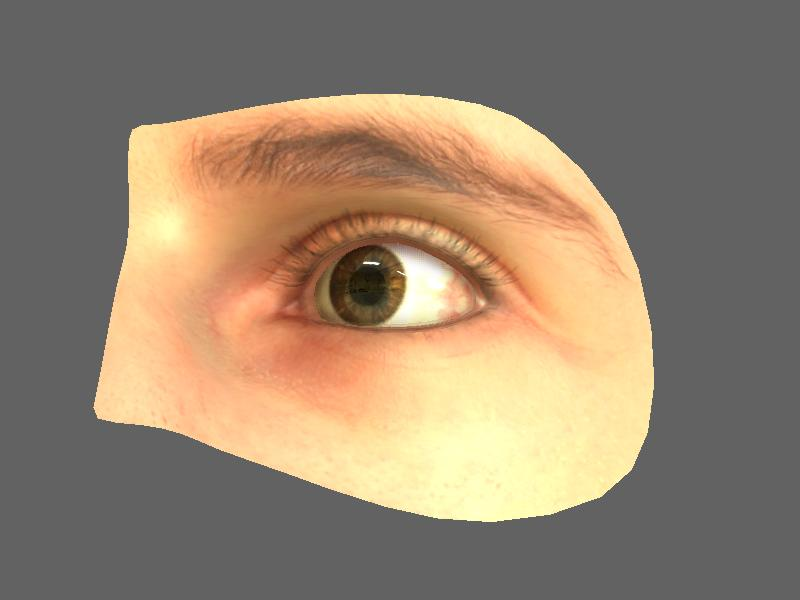iris: (332, 255, 412, 322)
